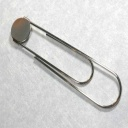Metal: (2, 7, 128, 120)
